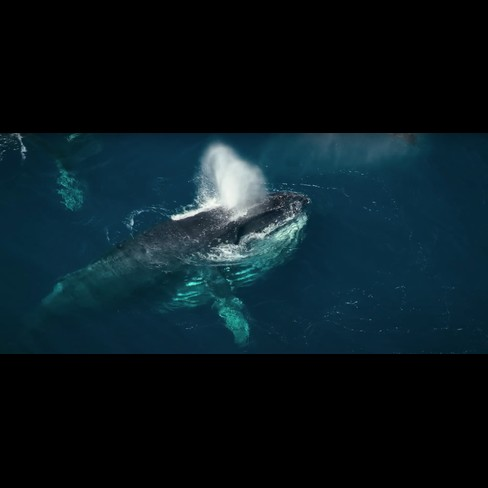hump: (10, 181, 312, 352)
